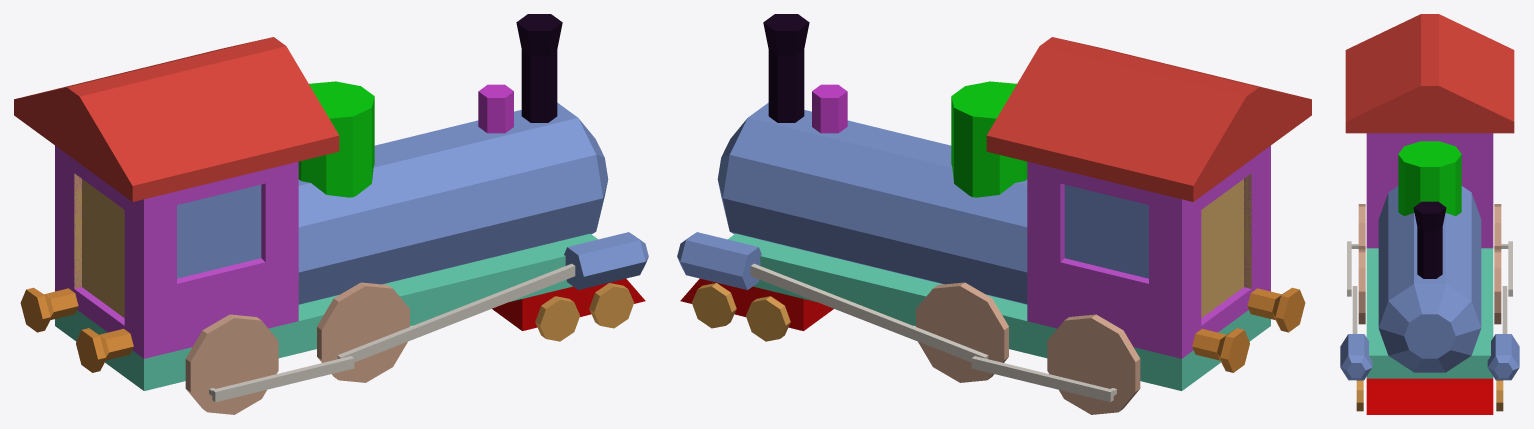
File: train.fbx
3 views of the same model, side by side, from view 1: azimuth 30°, elevation 25°; view 2: azimuth 150°, elevation 25°; view 3: azimuth 270°, elevation 25° (orthographic). The views are drawn at different scales.
Visible parts, largest first — view 1: Machine, BWheels2, FWhells1, Joint, Iron2, Iron1, BSmallWheels2, FSmallWheels1; view 2: Machine, BWheels2, FWhells1, Joint, Iron2, Iron1, BSmallWheels2, FSmallWheels1; view 3: Machine, FWhells1, BWheels2, Iron1, Iron2, FSmallWheels1.
Boxes of the visible parts, <box> form: Machine: <box>14,14,648,390</box>; BWheels2: <box>185,314,278,414</box>; FWhells1: <box>317,282,409,382</box>; Joint: <box>20,287,133,372</box>; Iron2: <box>337,263,575,362</box>; Iron1: <box>209,356,354,402</box>; BSmallWheels2: <box>535,296,579,341</box>; FSmallWheels1: <box>589,283,634,328</box>; Machine: <box>677,14,1311,390</box>; BWheels2: <box>1047,314,1140,414</box>; FWhells1: <box>916,282,1008,382</box>; Joint: <box>1192,287,1305,372</box>; Iron2: <box>750,263,988,362</box>; Iron1: <box>971,356,1116,402</box>; BSmallWheels2: <box>746,296,790,341</box>; FSmallWheels1: <box>691,283,736,328</box>; Machine: <box>1340,14,1519,414</box>; FWhells1: <box>1358,249,1501,324</box>; BWheels2: <box>1358,204,1501,249</box>; Iron1: <box>1347,241,1512,296</box>; Iron2: <box>1352,286,1507,333</box>; FSmallWheels1: <box>1356,380,1503,411</box>.
Size of the model in its own units: 702 by 394 by 282.
